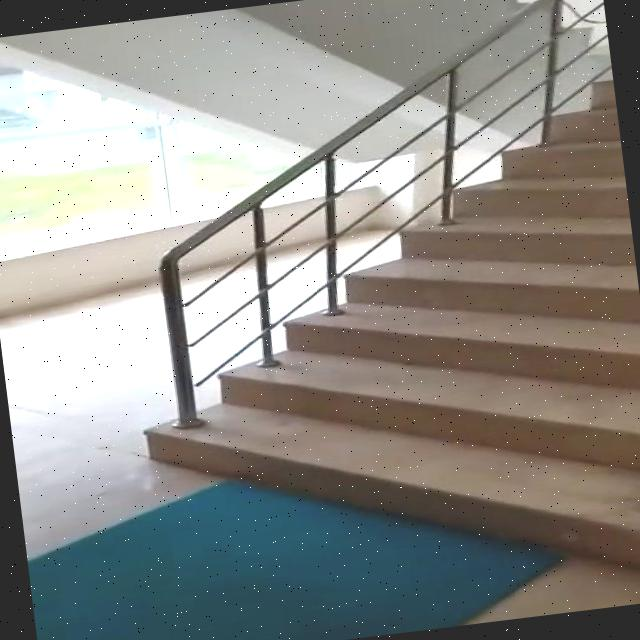stairs: (105, 75, 640, 639)
